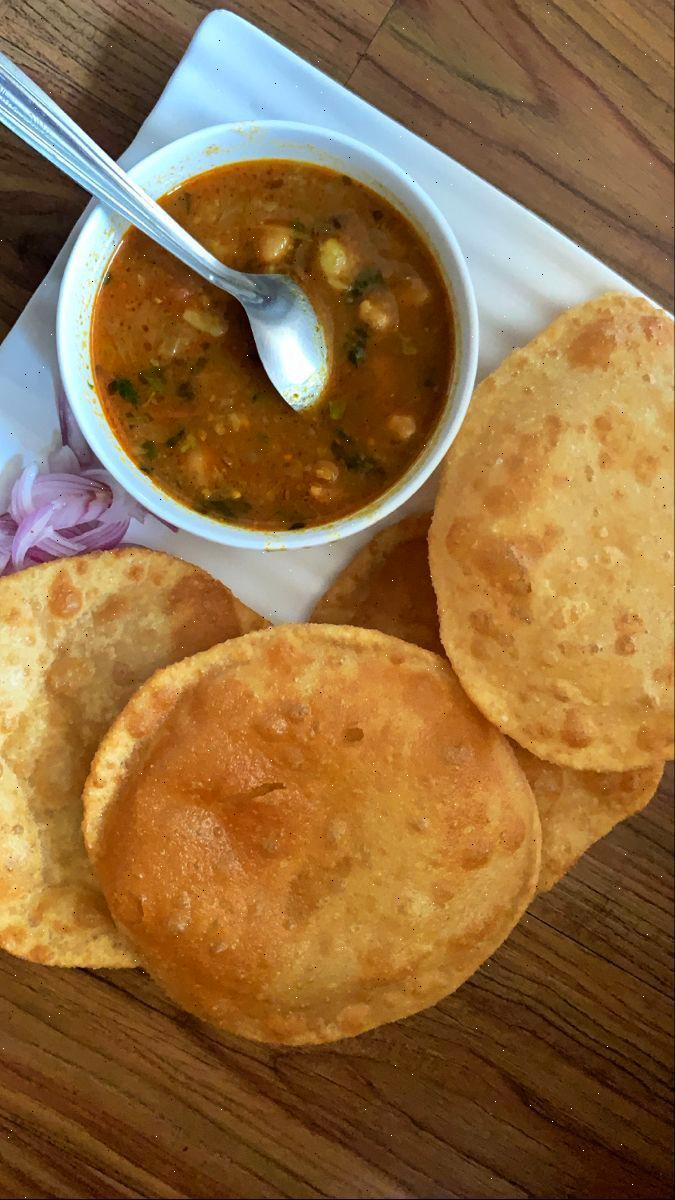chole: (87, 178, 435, 525)
puri: (30, 561, 503, 1029), (475, 366, 675, 766)
salad: (5, 458, 100, 583)
